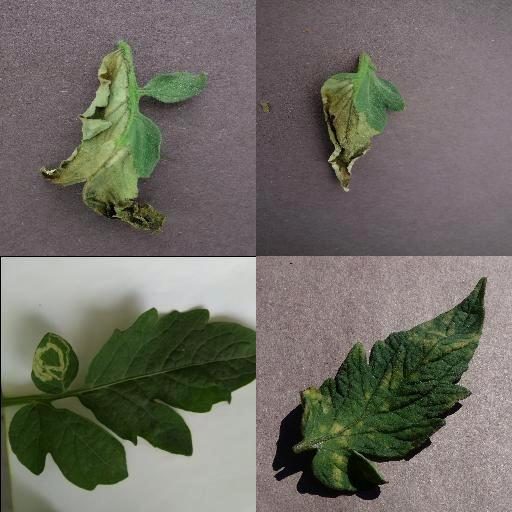Healthy: (76, 305, 256, 456), (7, 400, 127, 491)
Late Blight: (39, 48, 167, 234), (321, 70, 405, 196)
Leaf Miner: (30, 331, 80, 393)
Leaf Mold: (302, 276, 487, 492)
